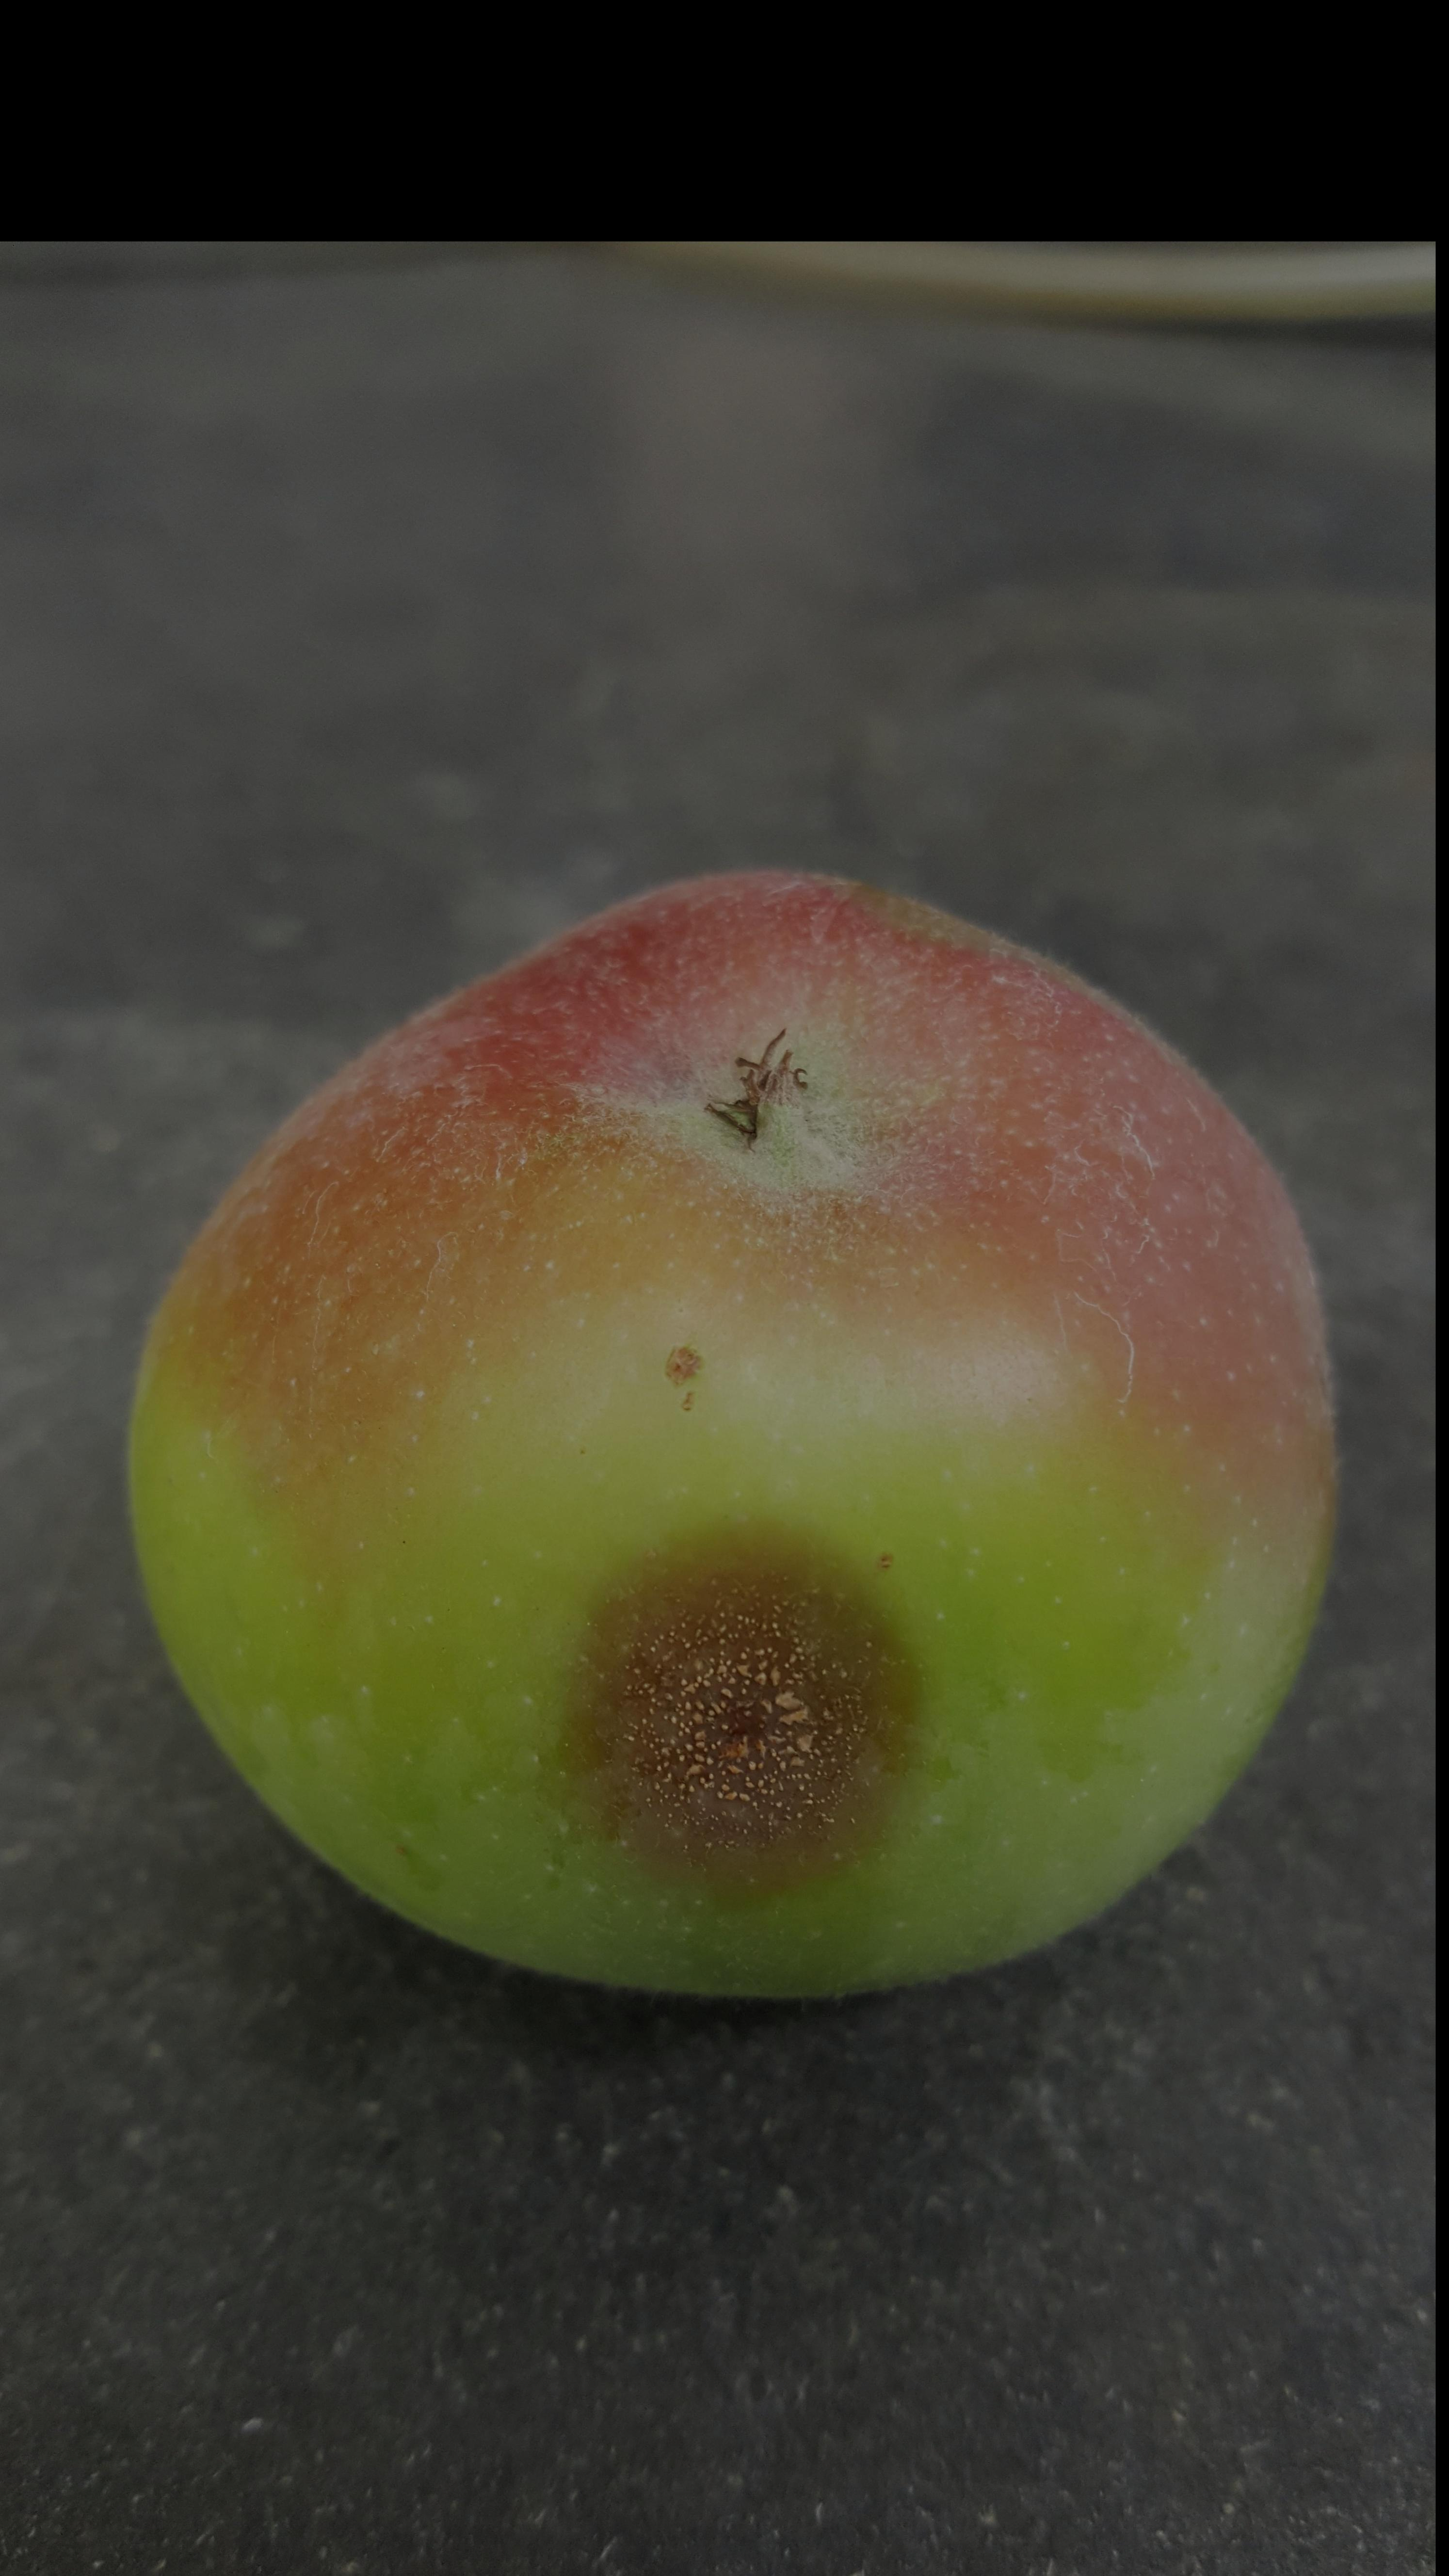rotten apple: (120, 855, 1353, 1996)
